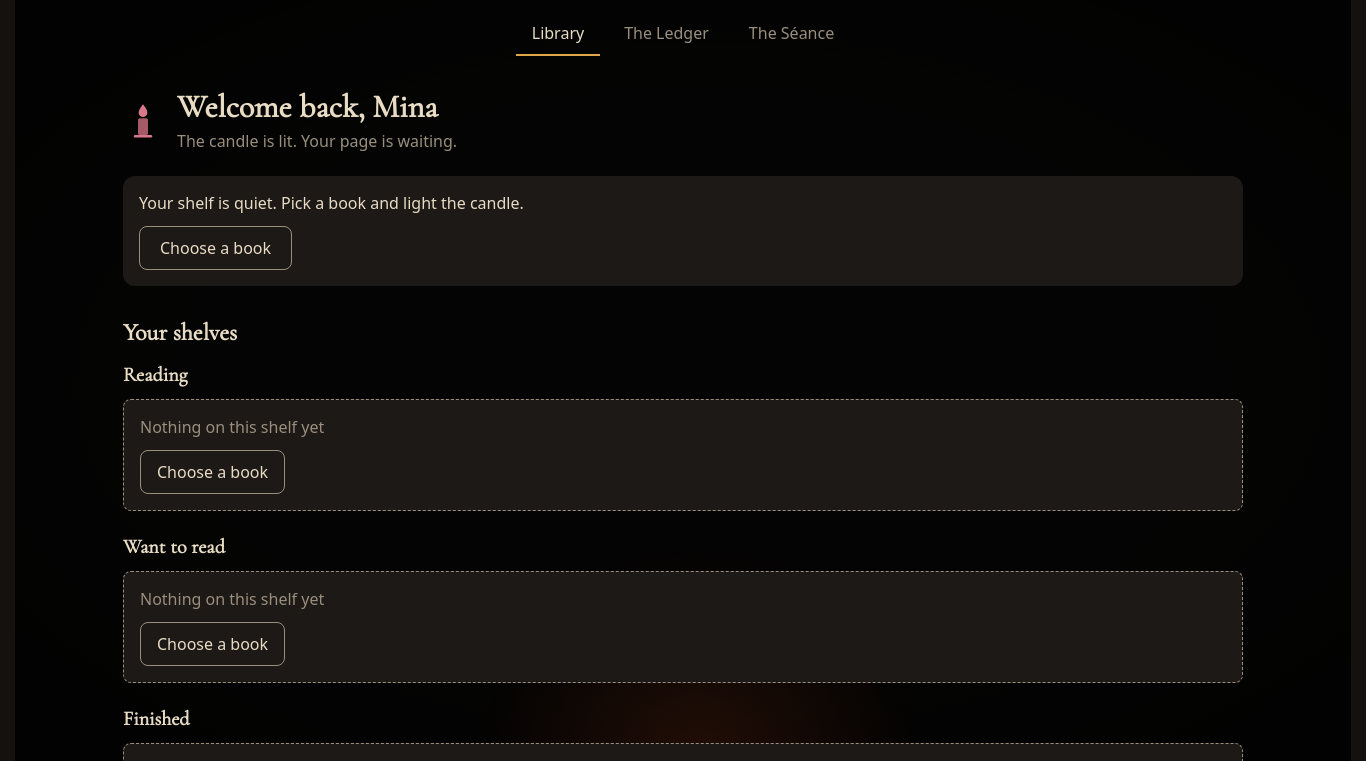
Test case: Clear my data through the real shell (Req 2.x, 12.4) › empties the store and removes rod_daily_goal, rod_shell_tab and rod_volume_cap
Click the tab "The Séance" at (792, 34), box [733,12,850,56]
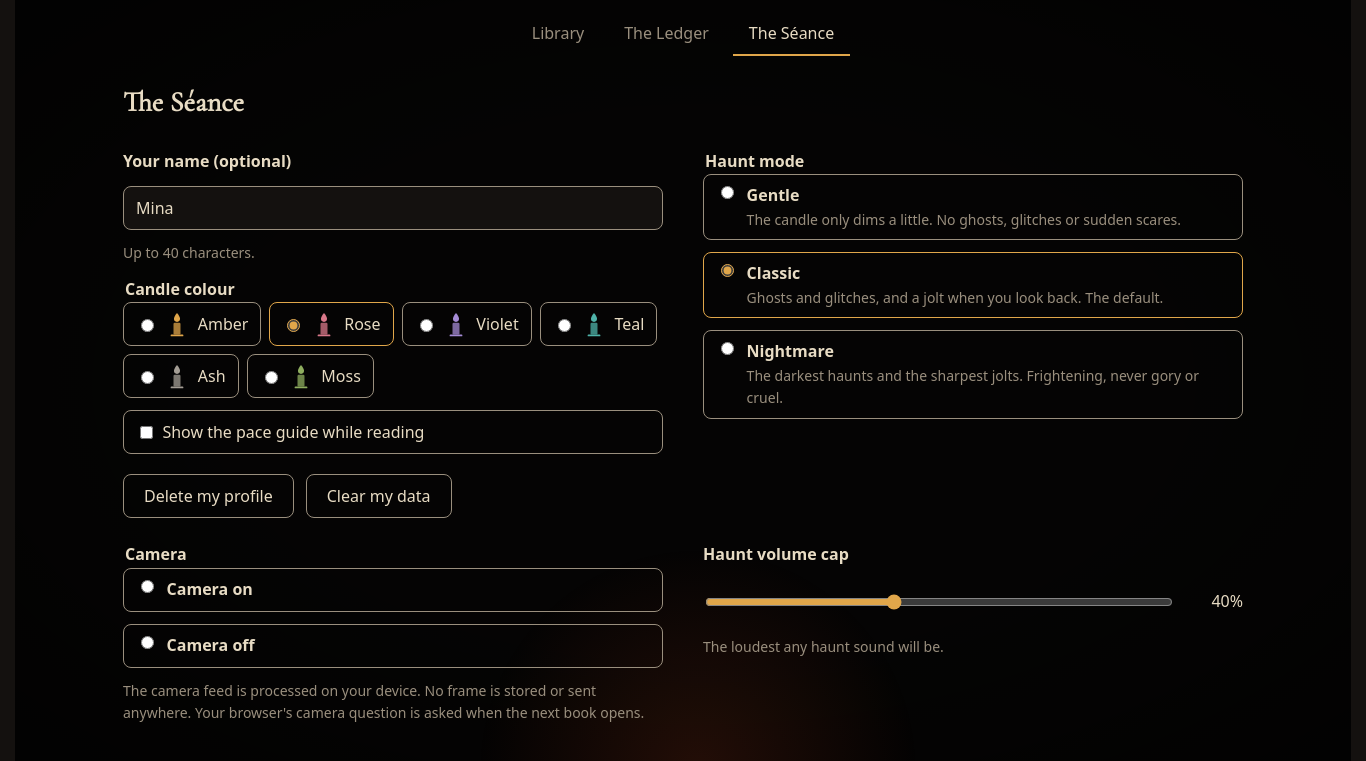
Set the slider labelled "Haunt volume cap" to "80" at (1075, 602), box [705,594,1173,610]
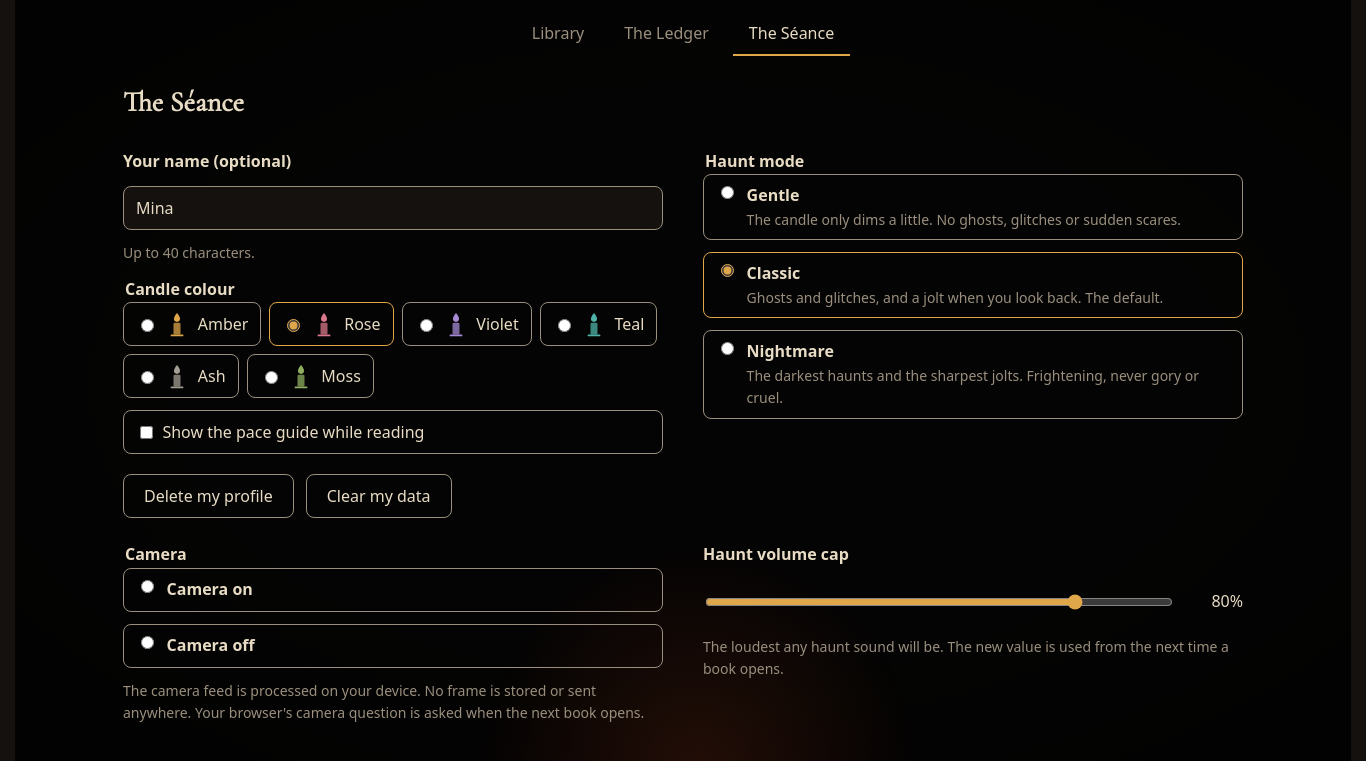
Click the button "Clear my data" at (379, 496), box [306,474,452,518]
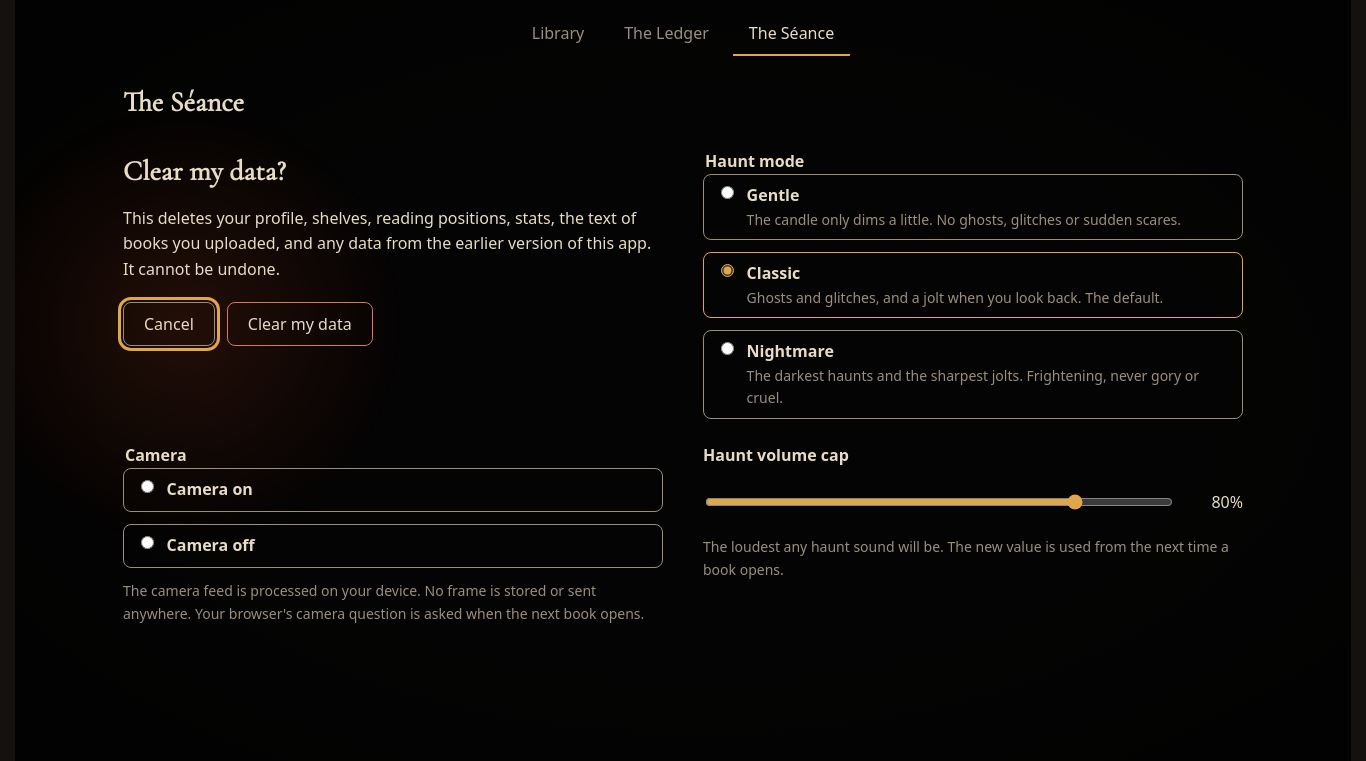
Click the button "Clear my data" at (300, 324), box [227,302,373,346]
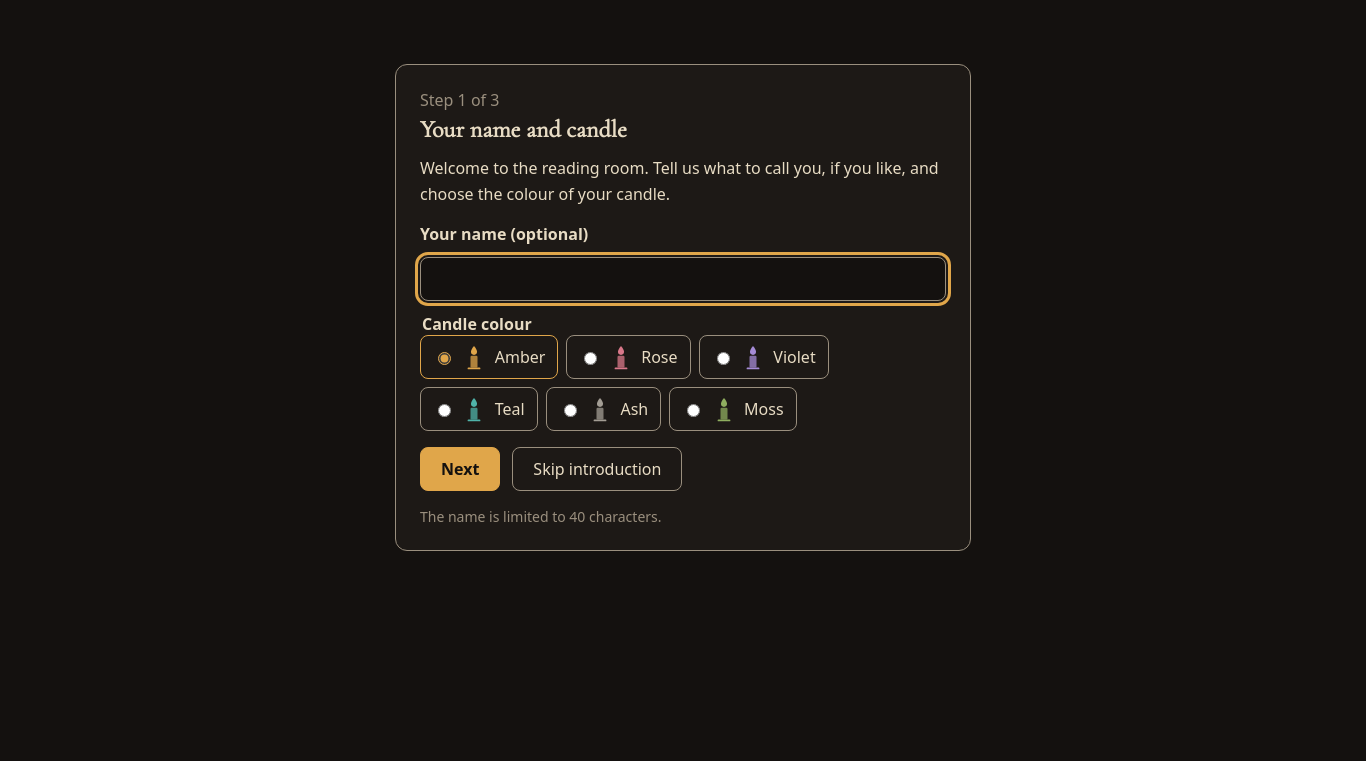
Result: the element "Your name and candle" is shown at [395,64,971,551]
